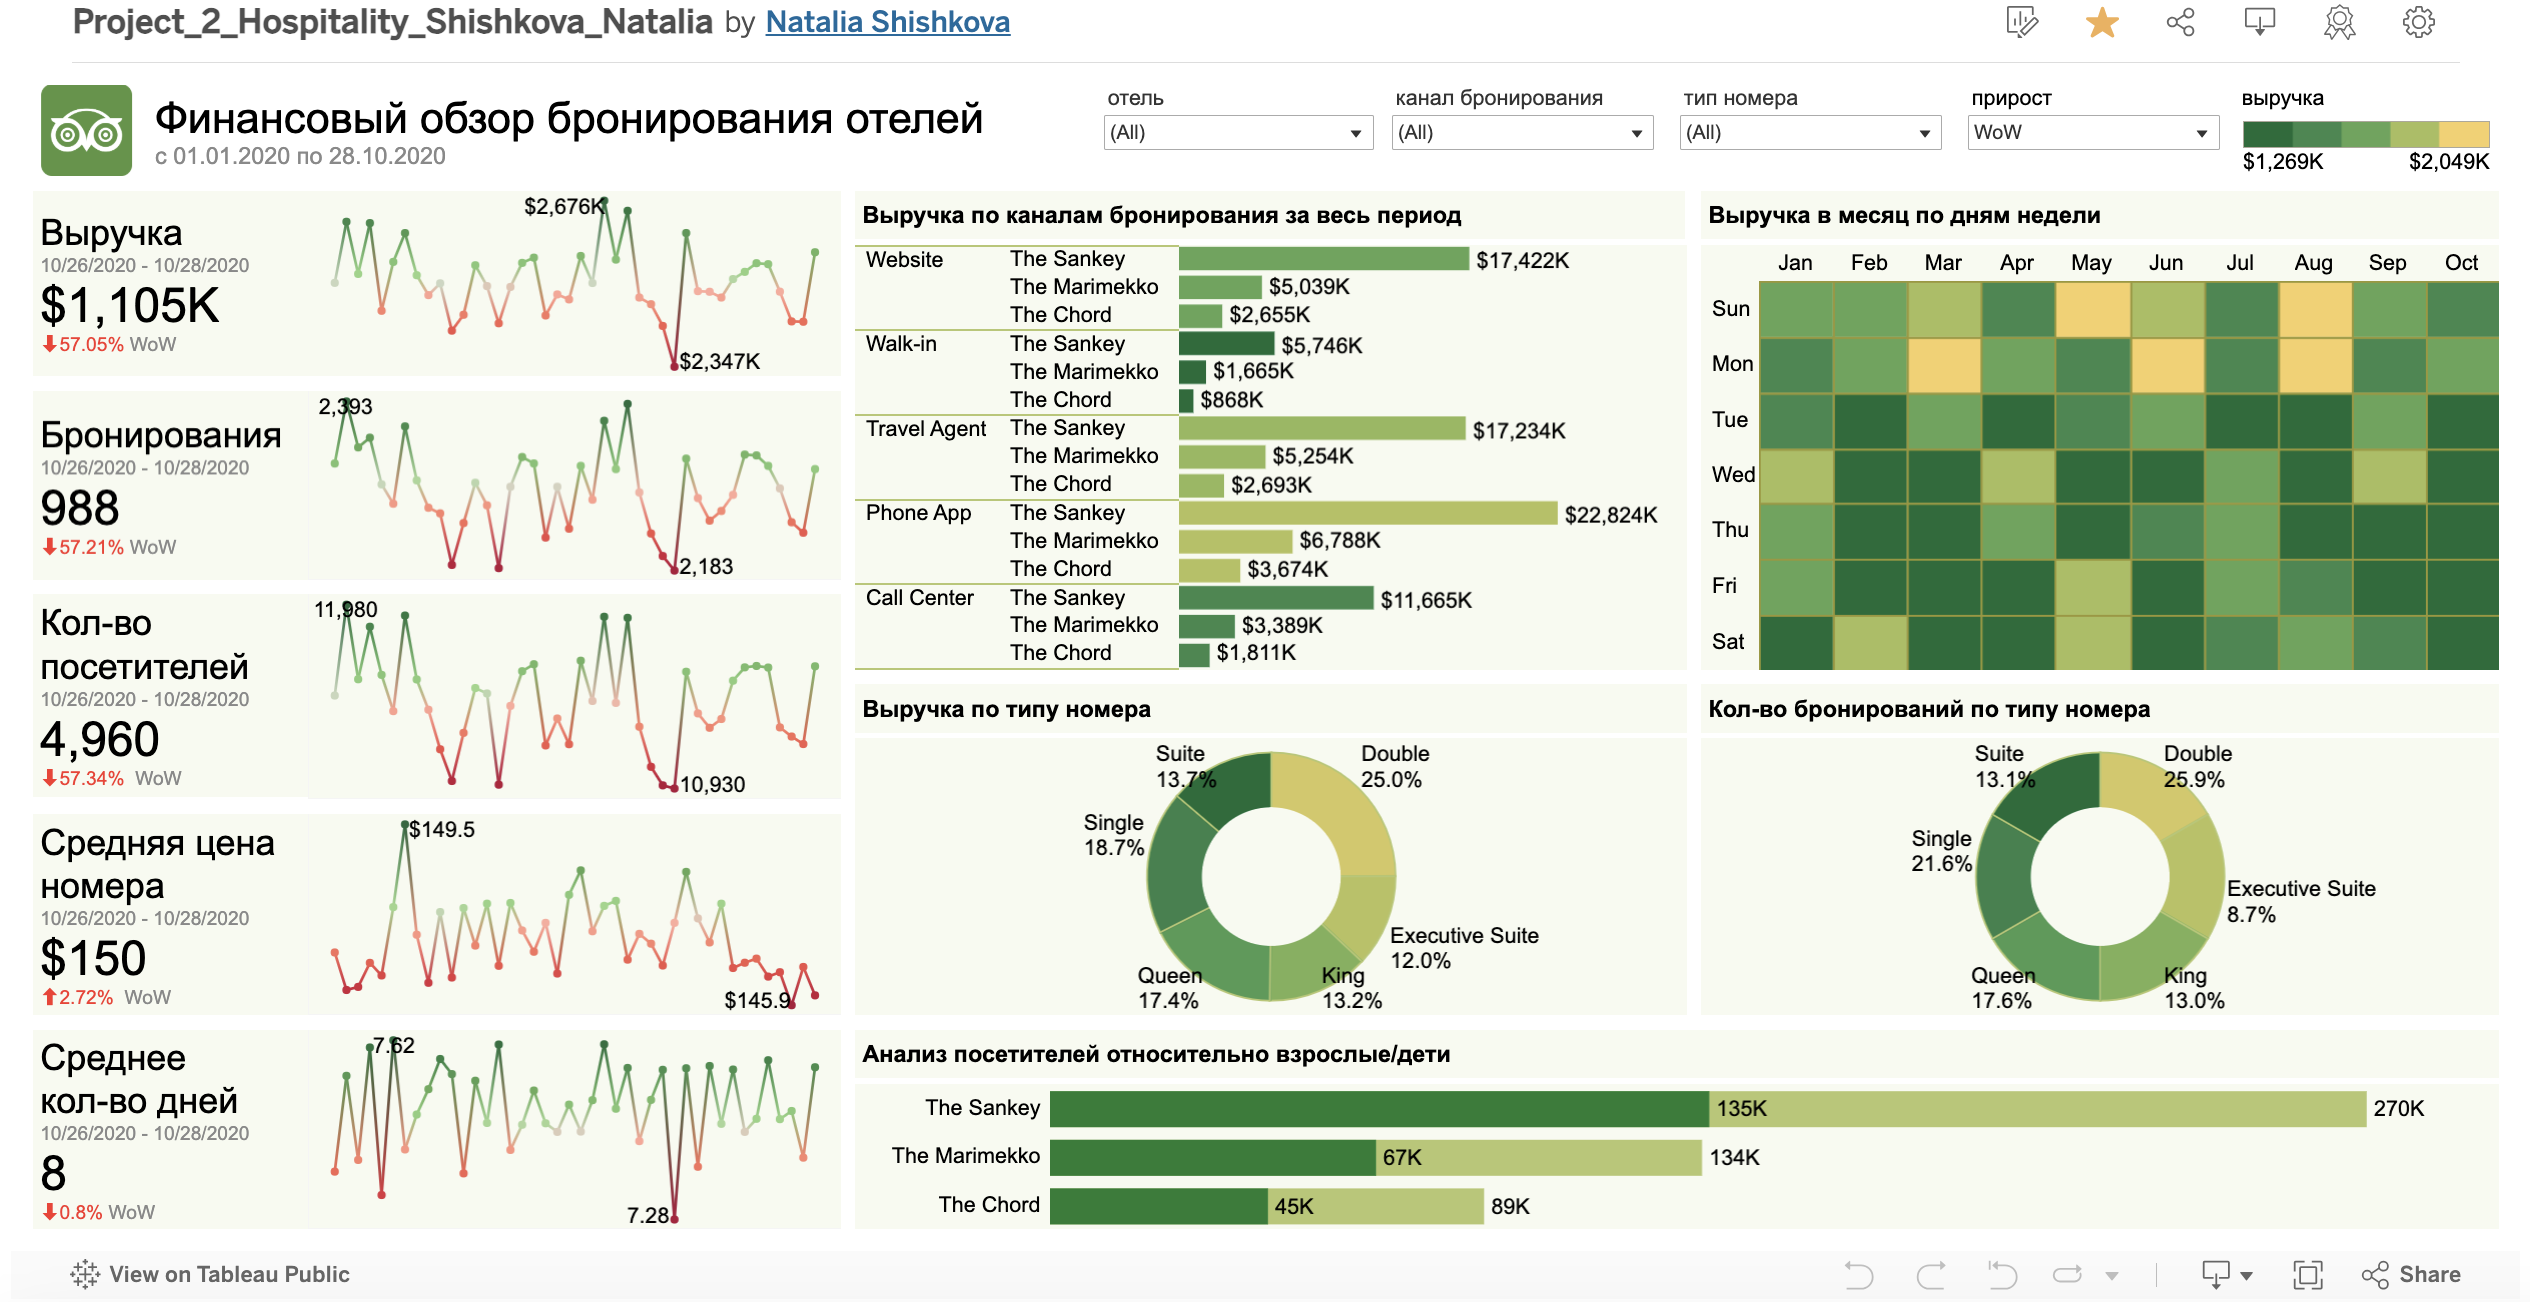

This screenshot's page, from the dashboard's own definition file:
{"tool":"tableau","page":{"name":"Финансовый обзор","canvas":[1000,1000],"units":"permille","ordinal":0},"visuals":[{"type":"image","param":"Image/tripadvisor-seeklogo.svg","box":[5.2,12.1,49.2,89.1]},{"type":"text","box":[54.3,12.1,377.7,89.1]},{"type":"filter","title":"Анализ кол-ва гостей в разрезе взрослые/дети","param":"[federated.1brufok029vcrr1fkyfxt09jowgw].[none:Property:nk]","box":[432,12.1,114.9,89.1]},{"type":"filter","title":"Анализ кол-ва гостей в разрезе взрослые/дети","param":"[federated.1brufok029vcrr1fkyfxt09jowgw].[none:booking_channel:nk]","box":[546.9,12.1,112,89.1]},{"type":"filter","title":"Выручка по типу номера","param":"[federated.1brufok029vcrr1fkyfxt09jowgw].[none:room_type:nk]","box":[658.8,12.1,114.9,89.1]},{"type":"parameter","param":"[Parameters].[Parameter 1]","box":[773.7,12.1,110.5,89.1]},{"type":"legend","title":"Выручка в месяц по дням недели","param":"[federated.1brufok029vcrr1fkyfxt09jowgw].[sum:Calculation_187603101844643840:qk]","box":[884.3,12.1,110.5,89.1]},{"type":"worksheet","title":"KPI WoW/MoM","mark":"Automatic","cols":["Calculation_187603102160506891"],"box":[5.2,101.2,112.7,167.9]},{"type":"worksheet","title":"Динамика выручки по неделям","mark":"Automatic","rows":["Calculation_187603101844643840"],"cols":["check_in_date"],"box":[117.9,101.2,215.2,167.9]},{"type":"worksheet","title":"Выручка по каналам бронирования за весь период","mark":"Bar","rows":["канал бронирования (copy)_1334332157614608390","отель (copy)_1334332157614641159"],"cols":["Calculation_187603101844643840"],"box":[333.1,101.2,337.6,415.4]},{"type":"worksheet","title":"Выручка в месяц по дням недели","mark":"Automatic","rows":["check_in_date"],"cols":["check_in_date"],"box":[670.6,101.2,324.2,415.4]},{"type":"worksheet","title":"Бронирование WoW/MoM","mark":"Automatic","cols":["Calculation_187603102160506891"],"box":[5.2,269.1,112.7,171.4]},{"type":"worksheet","title":"Динамика бронирований по неделям","mark":"Automatic","rows":["reservation_id"],"cols":["check_in_date"],"box":[117.9,269.1,215.2,171.4]},{"type":"worksheet","title":"Кол-во поситителей","mark":"Automatic","cols":["Calculation_187603102160506891"],"box":[5.2,440.5,112.7,184.7]},{"type":"worksheet","title":"Динамика кол-ва гостей","mark":"Automatic","rows":["Calculation_1334332157597302785"],"cols":["check_in_date"],"box":[117.9,440.6,215.2,184.6]},{"type":"worksheet","title":"Выручка по типу номера","mark":"Pie","cols":["Calculation_1334332157627559947","Calculation_1334332157627666445"],"box":[333.1,516.6,337.6,290.8]},{"type":"worksheet","title":"Кол-во бронирований по типу номера","mark":"Pie","cols":["Calculation_1334332157647544342","Calculation_1334332157647564824"],"box":[670.7,516.6,324.2,290.8]},{"type":"worksheet","title":"Ср цена номера WoW/MoM ","mark":"Automatic","cols":["Calculation_187603102160506891"],"box":[5.2,625.2,112.7,182.2]},{"type":"worksheet","title":"Динамика средней цены номера по неделям","mark":"Automatic","rows":["Avg Room Rate"],"cols":["check_in_date"],"box":[117.9,625.2,215.2,182.2]},{"type":"worksheet","title":"Ср кол-во дней WoW/MoM","mark":"Automatic","cols":["Calculation_187603102160506891"],"box":[5.2,807.4,112.7,180.5]},{"type":"worksheet","title":"Динамика среднего кол-ва дней по неделям","mark":"Automatic","rows":["stay_duration"],"cols":["check_in_date"],"box":[117.9,807.4,215.2,180.5]},{"type":"worksheet","title":"Анализ кол-ва гостей в разрезе взрослые/дети","mark":"Bar","rows":["Property"],"cols":["Calculation_1334332157597302785","adults"],"box":[333.1,807.4,661.8,180.5]}]}

Visuals, with their boxes on the dashboard's canvas, which has no fixed pixel size, in thousandths of its width and height (x1, y1, x2, y2). These are canvas units, not pixel positions in the 2530x1302 screenshot, which may show the page scaled, cropped or inside an application window:
image: region(5, 12, 54, 101)
text: region(54, 12, 432, 101)
"Анализ кол-ва гостей в разрезе взрослые/дети" filter: region(432, 12, 547, 101)
"Анализ кол-ва гостей в разрезе взрослые/дети" filter: region(547, 12, 659, 101)
"Выручка по типу номера" filter: region(659, 12, 774, 101)
parameter: region(774, 12, 884, 101)
"Выручка в месяц по дням недели" legend: region(884, 12, 995, 101)
"KPI WoW/MoM" worksheet: region(5, 101, 118, 269)
"Динамика выручки по неделям" worksheet: region(118, 101, 333, 269)
"Выручка по каналам бронирования за весь период" worksheet (Bar marks): region(333, 101, 671, 517)
"Выручка в месяц по дням недели" worksheet: region(671, 101, 995, 517)
"Бронирование WoW/MoM" worksheet: region(5, 269, 118, 440)
"Динамика бронирований по неделям" worksheet: region(118, 269, 333, 440)
"Кол-во поситителей" worksheet: region(5, 440, 118, 625)
"Динамика кол-ва гостей" worksheet: region(118, 441, 333, 625)
"Выручка по типу номера" worksheet (Pie marks): region(333, 517, 671, 807)
"Кол-во бронирований по типу номера" worksheet (Pie marks): region(671, 517, 995, 807)
"Ср цена номера WoW/MoM " worksheet: region(5, 625, 118, 807)
"Динамика средней цены номера по неделям" worksheet: region(118, 625, 333, 807)
"Ср кол-во дней WoW/MoM" worksheet: region(5, 807, 118, 988)
"Динамика среднего кол-ва дней по неделям" worksheet: region(118, 807, 333, 988)
"Анализ кол-ва гостей в разрезе взрослые/дети" worksheet (Bar marks): region(333, 807, 995, 988)
